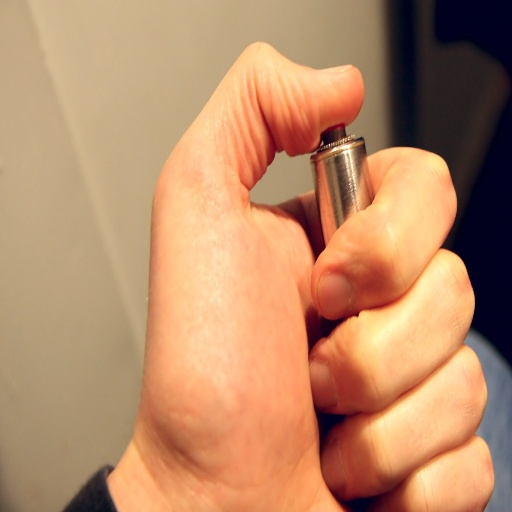hand: (138, 41, 494, 511)
